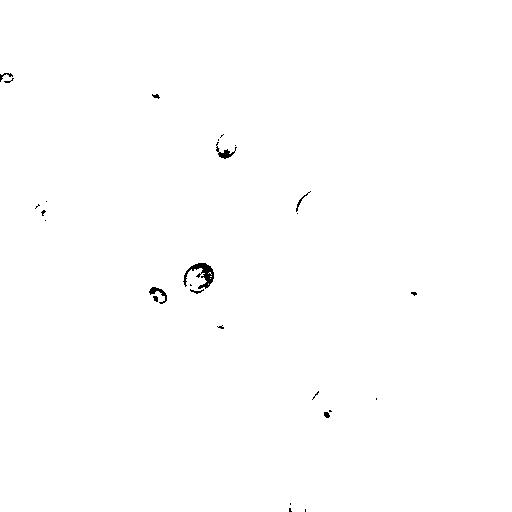micro-algae: (2, 146, 74, 219), (105, 163, 156, 214), (394, 273, 438, 311), (180, 257, 218, 295), (292, 186, 327, 221), (212, 129, 241, 161), (310, 385, 339, 415), (35, 198, 62, 229), (498, 85, 512, 137), (355, 389, 379, 415), (498, 347, 512, 381), (147, 286, 170, 306), (287, 493, 308, 511), (224, 217, 237, 237), (2, 71, 18, 83)
